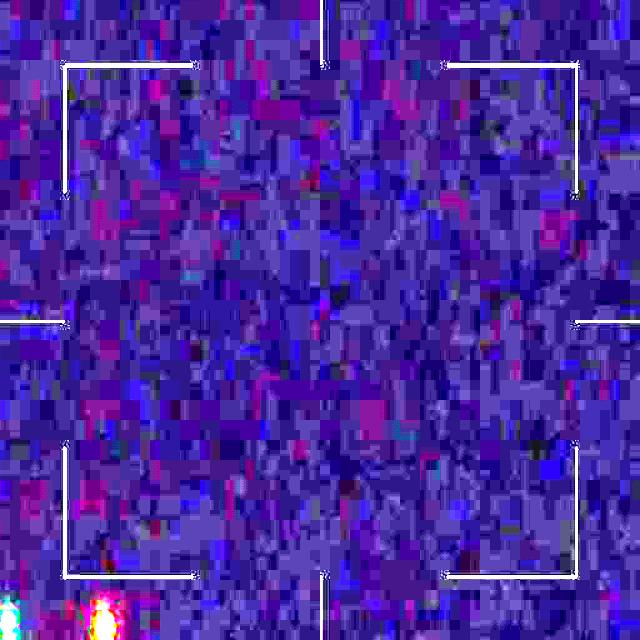bird: (0, 599, 124, 640)
